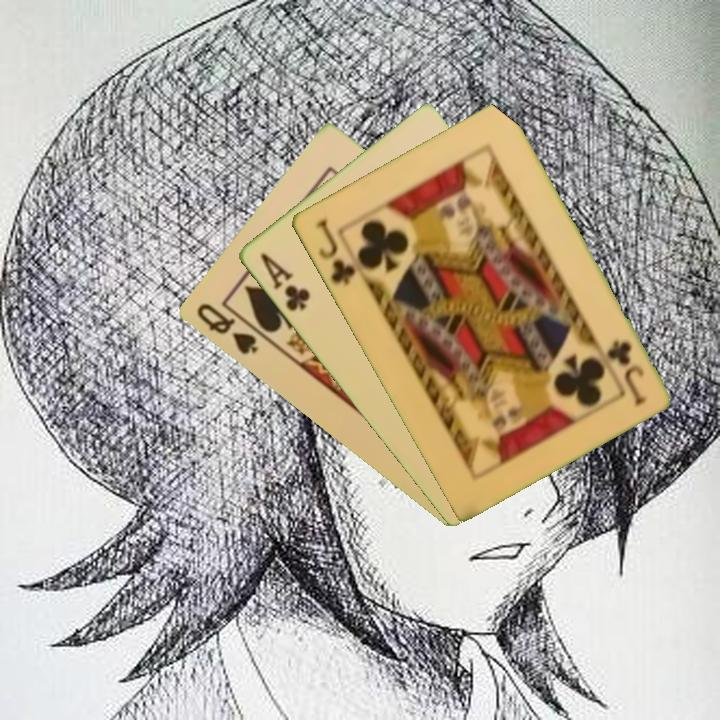Ac: (255, 248, 313, 315)
Jc: (603, 336, 650, 408), (312, 215, 358, 288)
Qs: (192, 299, 261, 358)
